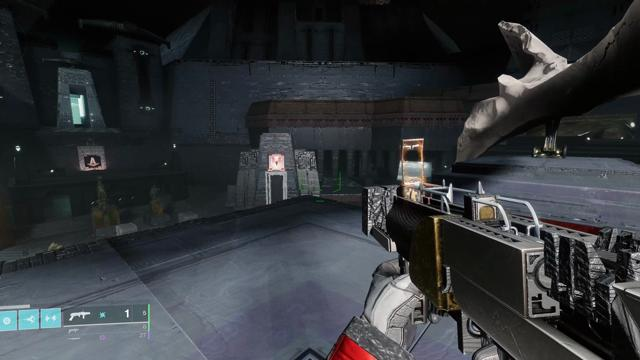enter: (87, 156, 99, 166)
give: (271, 156, 282, 167)
